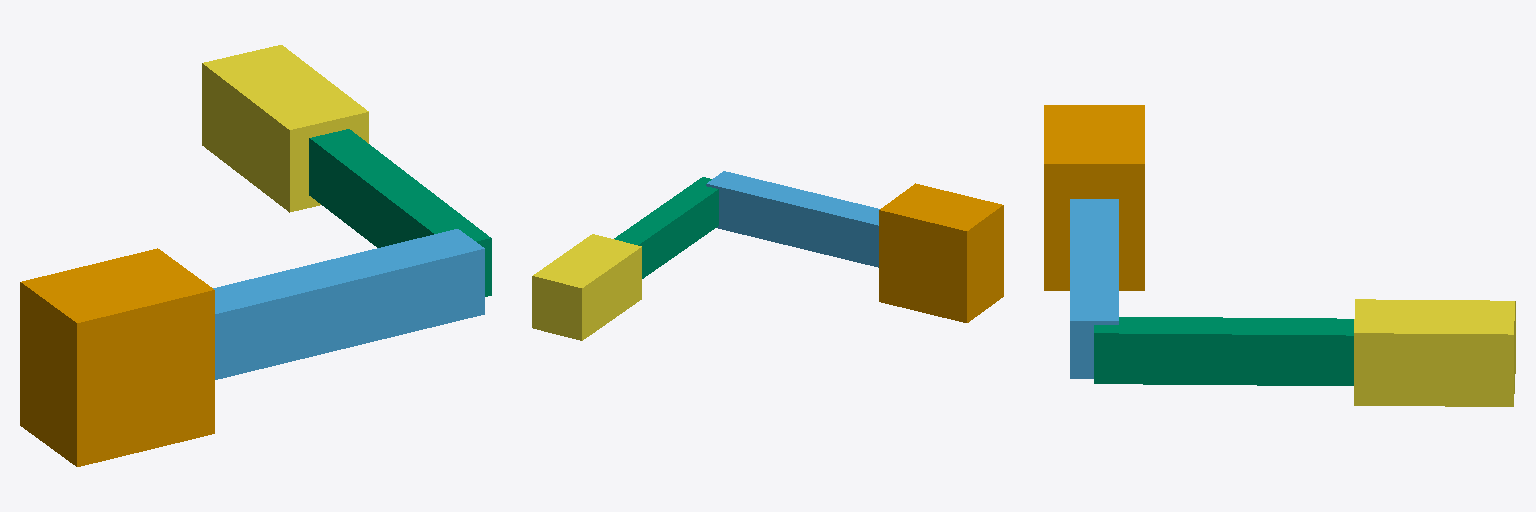
URDF robot description (p3_minimal_arm):
<?xml version="1.0"?>
<robot name="p3_minimal_arm">
  <link name="base">
    <inertial>
      <origin xyz="0 0 0" rpy="0 0 0"/>
      <mass value="20.0"/>
      <inertia ixx="1.0" ixy="0" ixz="0" iyy="1.0" iyz="0" izz="1.0"/>
    </inertial>
    <visual>
      <origin xyz="0 0 0" rpy="0 0 0"/>
      <geometry><box size="0.35 0.25 0.35"/></geometry>
    </visual>
    <collision>
      <origin xyz="0 0 0" rpy="0 0 0"/>
      <geometry><box size="0.35 0.25 0.35"/></geometry>
    </collision>
  </link>

  <link name="link_1">
    <inertial>
      <origin xyz="0 0 0" rpy="0 0 0"/>
      <mass value="2.0"/>
      <inertia ixx="0.05" ixy="0" ixz="0" iyy="0.05" iyz="0" izz="0.05"/>
    </inertial>
    <visual>
      <origin xyz="0.45 0 0" rpy="0 0 0"/>
      <geometry><box size="0.90 0.12 0.16"/></geometry>
    </visual>
    <collision>
      <origin xyz="0.45 0 0" rpy="0 0 0"/>
      <geometry><box size="0.90 0.12 0.16"/></geometry>
    </collision>
  </link>

  <link name="link_2">
    <inertial>
      <origin xyz="0 0 0" rpy="0 0 0"/>
      <mass value="1.5"/>
      <inertia ixx="0.04" ixy="0" ixz="0" iyy="0.04" iyz="0" izz="0.04"/>
    </inertial>
    <visual>
      <origin xyz="0.45 0 0" rpy="0 0 0"/>
      <geometry><box size="0.90 0.10 0.14"/></geometry>
    </visual>
    <collision>
      <origin xyz="0.45 0 0" rpy="0 0 0"/>
      <geometry><box size="0.90 0.10 0.14"/></geometry>
    </collision>
  </link>

  <link name="tool">
    <inertial>
      <origin xyz="0 0 0" rpy="0 0 0"/>
      <mass value="0.8"/>
      <inertia ixx="0.02" ixy="0" ixz="0" iyy="0.02" iyz="0" izz="0.02"/>
    </inertial>
    <visual>
      <origin xyz="0.20 0 0" rpy="0 0 0"/>
      <geometry><box size="0.40 0.20 0.20"/></geometry>
    </visual>
    <collision>
      <origin xyz="0.20 0 0" rpy="0 0 0"/>
      <geometry><box size="0.40 0.20 0.20"/></geometry>
    </collision>
  </link>

  <joint name="base_to_link_1" type="revolute">
    <origin xyz="0 0 0" rpy="0 0 0"/>
    <parent link="base"/>
    <child link="link_1"/>
    <axis xyz="0 0 1"/>
    <limit lower="-2.8" upper="1.2" effort="80" velocity="2.5"/>
  </joint>

  <joint name="link_1_to_link_2" type="revolute">
    <origin xyz="0.9 0 0" rpy="0 0 0"/>
    <parent link="link_1"/>
    <child link="link_2"/>
    <axis xyz="0 0 1"/>
    <limit lower="0.2" upper="2.9" effort="80" velocity="2.5"/>
  </joint>

  <joint name="link_2_to_tool" type="fixed">
    <origin xyz="0.65 0 0" rpy="0 0 0"/>
    <parent link="link_2"/>
    <child link="tool"/>
  </joint>
</robot>

--- What the picture shows (computed from the rendered views, not written in the file) ---
3 views of the same robot in one strip: view 1: azimuth 30°, elevation 25°; view 2: azimuth 150°, elevation 25°; view 3: azimuth 270°, elevation 25° (orthographic).
Robot: p3_minimal_arm — 4 links, 3 joints (2 revolute, 1 fixed); root link base; default pose: all joints at 0 but 1 set to mid-range because 0 is outside their limits (link_1_to_link_2 = 1.55).
Visible links, largest first — view 1: base, link_1, tool, link_2; view 2: base, link_1, tool, link_2; view 3: link_2, tool, base, link_1.
Link boxes in pixels (left/top/right/bottom): base: left=20, top=248, right=214, bottom=466; link_1: left=213, top=229, right=484, bottom=379; tool: left=202, top=45, right=368, bottom=212; link_2: left=309, top=129, right=491, bottom=296; base: left=879, top=183, right=1003, bottom=322; link_1: left=706, top=171, right=879, bottom=267; tool: left=532, top=234, right=641, bottom=340; link_2: left=614, top=177, right=718, bottom=278; link_2: left=1094, top=317, right=1353, bottom=385; tool: left=1354, top=299, right=1515, bottom=406; base: left=1044, top=105, right=1144, bottom=290; link_1: left=1070, top=199, right=1118, bottom=378.
Size in the robot's own frame: 1.2 by 1.18 by 0.35 metres.
Geometry: primitives only (box / cylinder / sphere), no mesh files.
